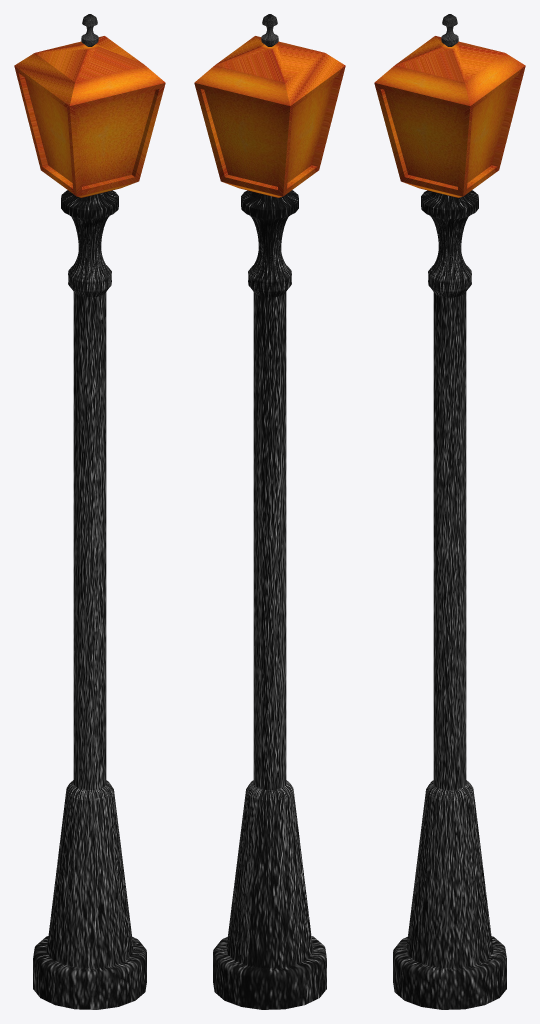
Rendered from Lampara.obj.
3 renders of one model, left to right at view 1: azimuth 30°, elevation 25°; view 2: azimuth 150°, elevation 25°; view 3: azimuth 330°, elevation 25°, orthographic.
Parts seen in each view (by area): view 1: post, cage; view 2: post, cage; view 3: post, cage.
Part boxes in pixels (x1,y1,x2,y2): post: (33,14,146,1009); cage: (14,36,165,197); post: (213,14,326,1009); cage: (194,36,345,197); post: (393,14,506,1009); cage: (374,36,525,197).
Bounding box in the file's own units: 15 × 140 × 15.
Materials: 2 (2 with a texture image).
